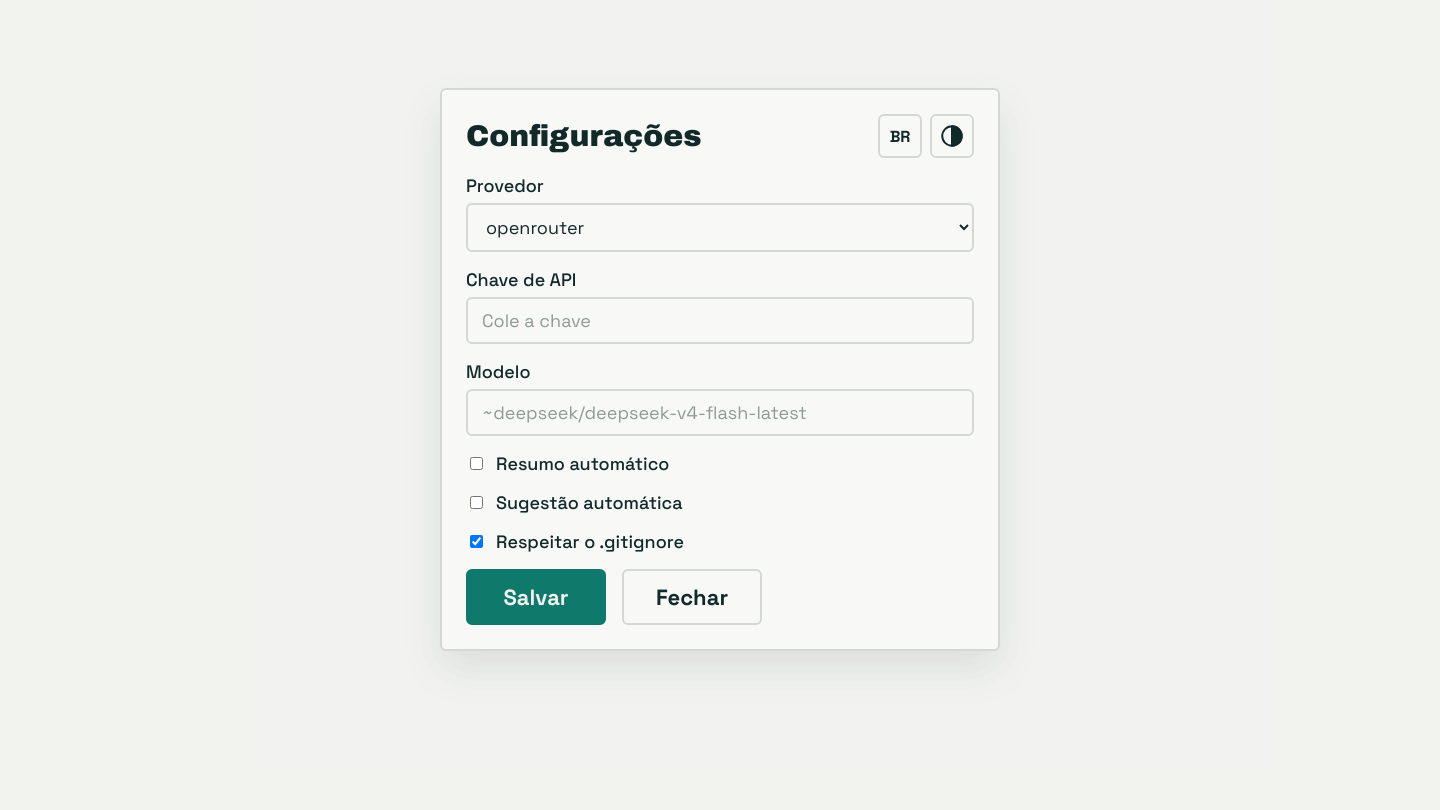
Test case: SettingsDialog theme button › shows the theme by its icon and saves the next one on the click
This screenshot has width=1440, height=810.
Click the button named "Tema: Seguir o sistema" at x=952, y=136, box [930,114,974,158]
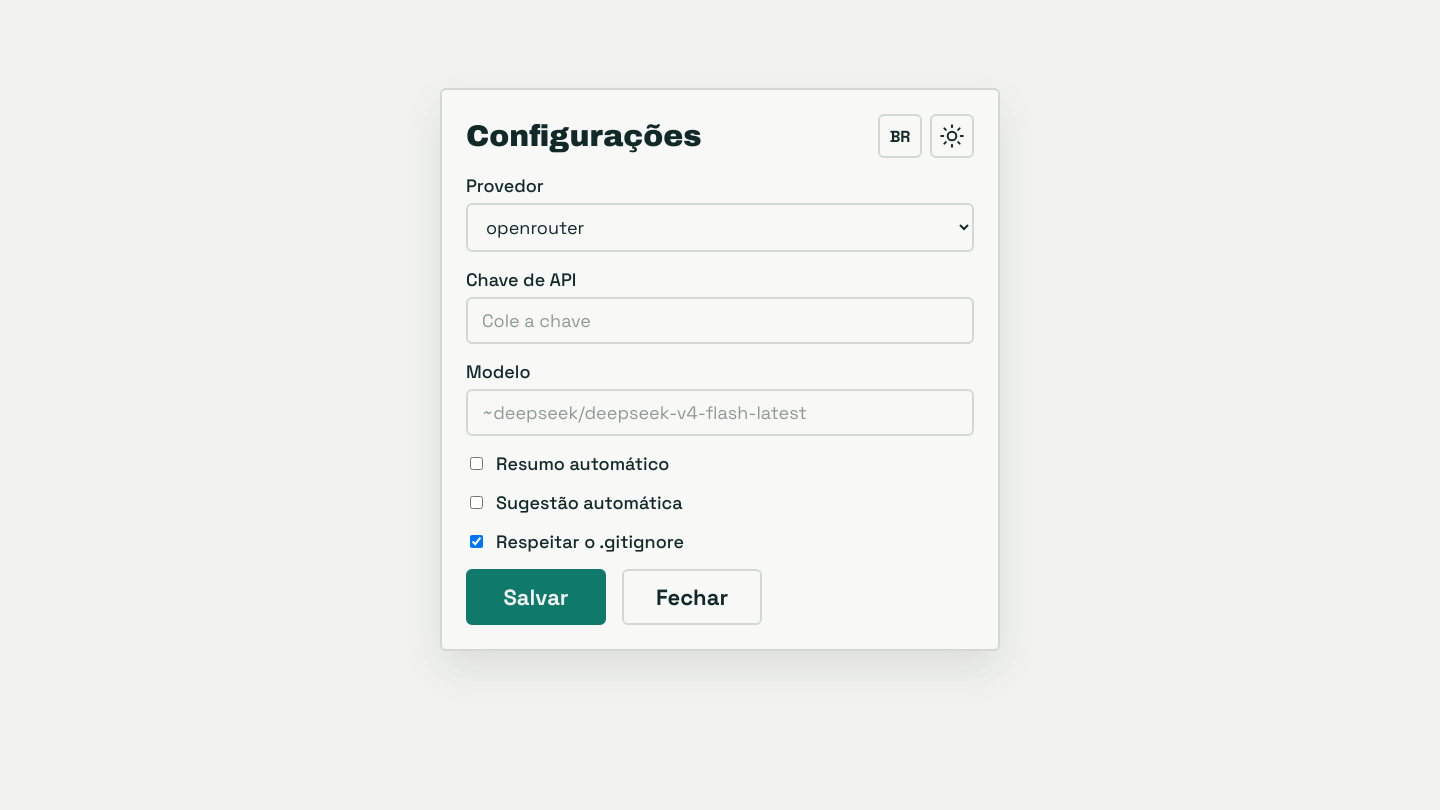
Check: the button named "Tema: Claro" is shown, box [930,114,974,158]
